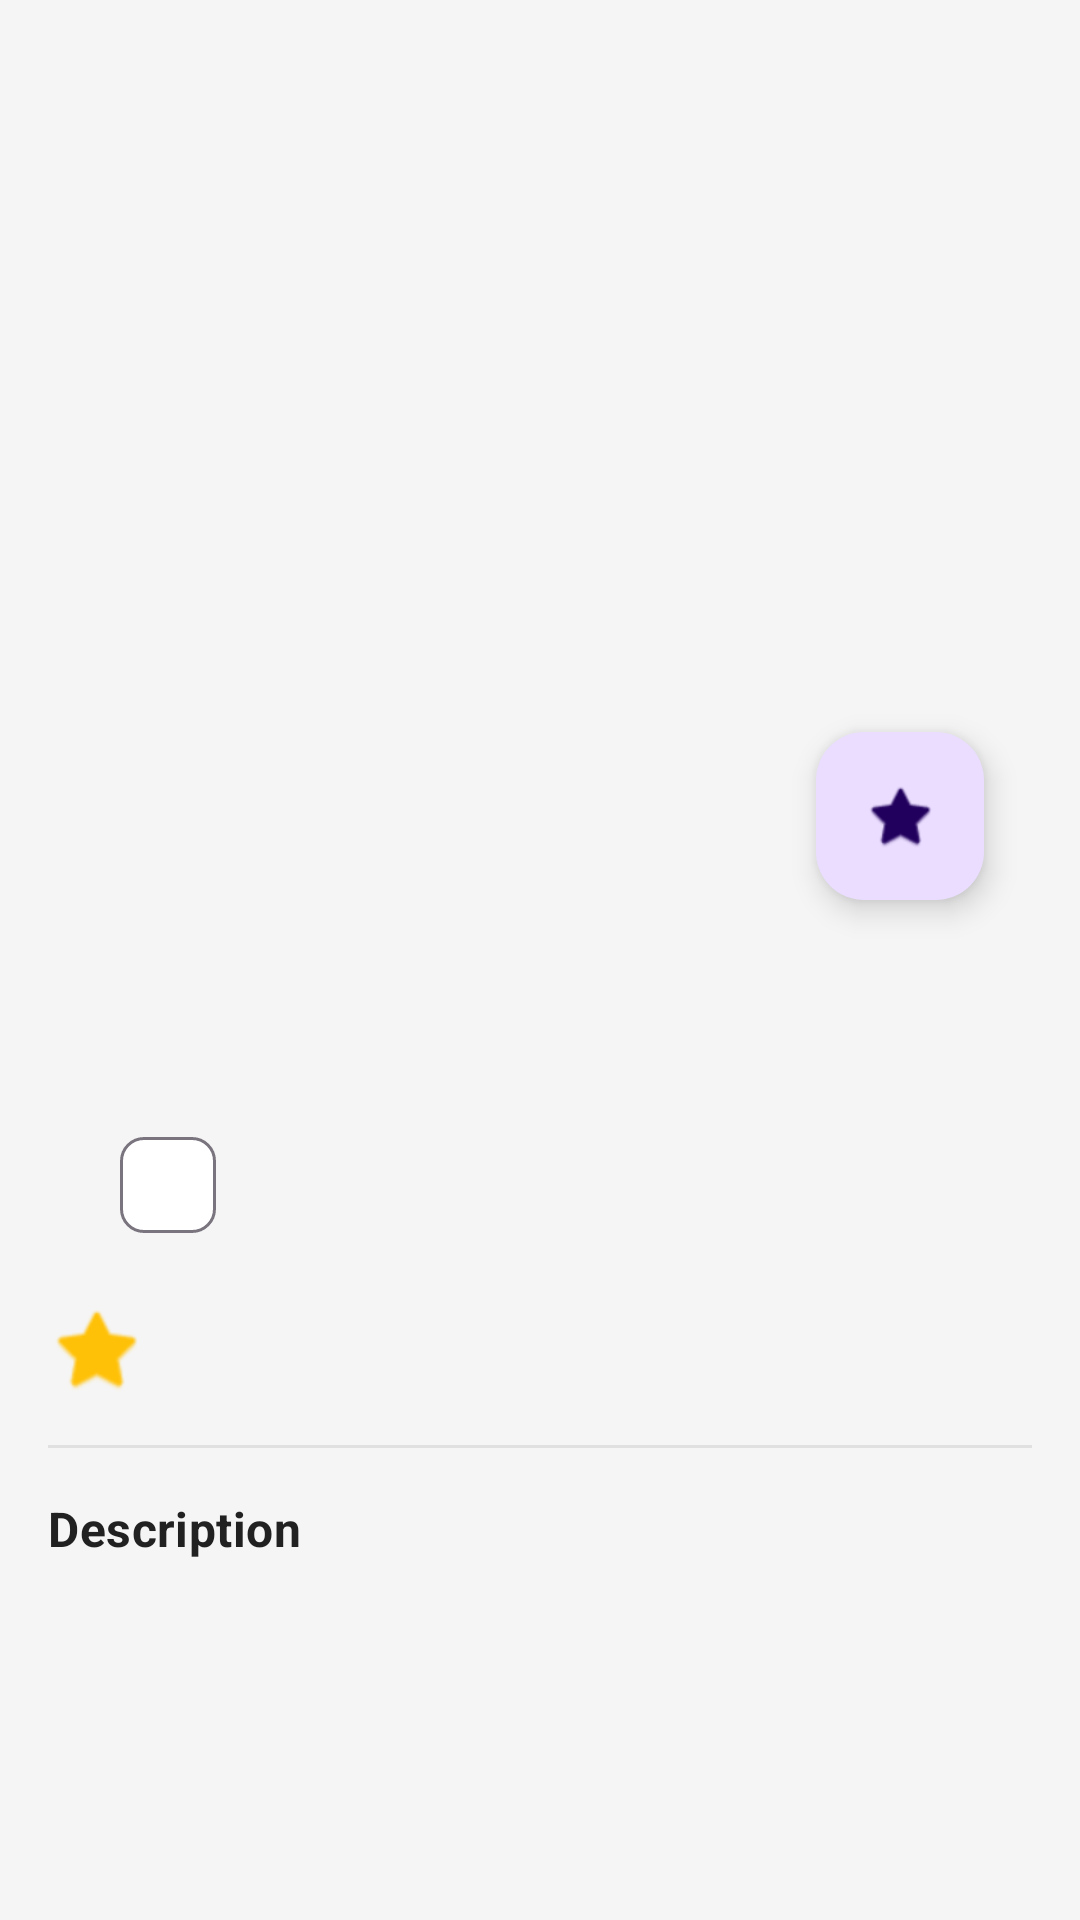

Point at icon controls on the screen. Image size 1080 x 1920, points as [x,y].
Add to Favorites: [900,816]
